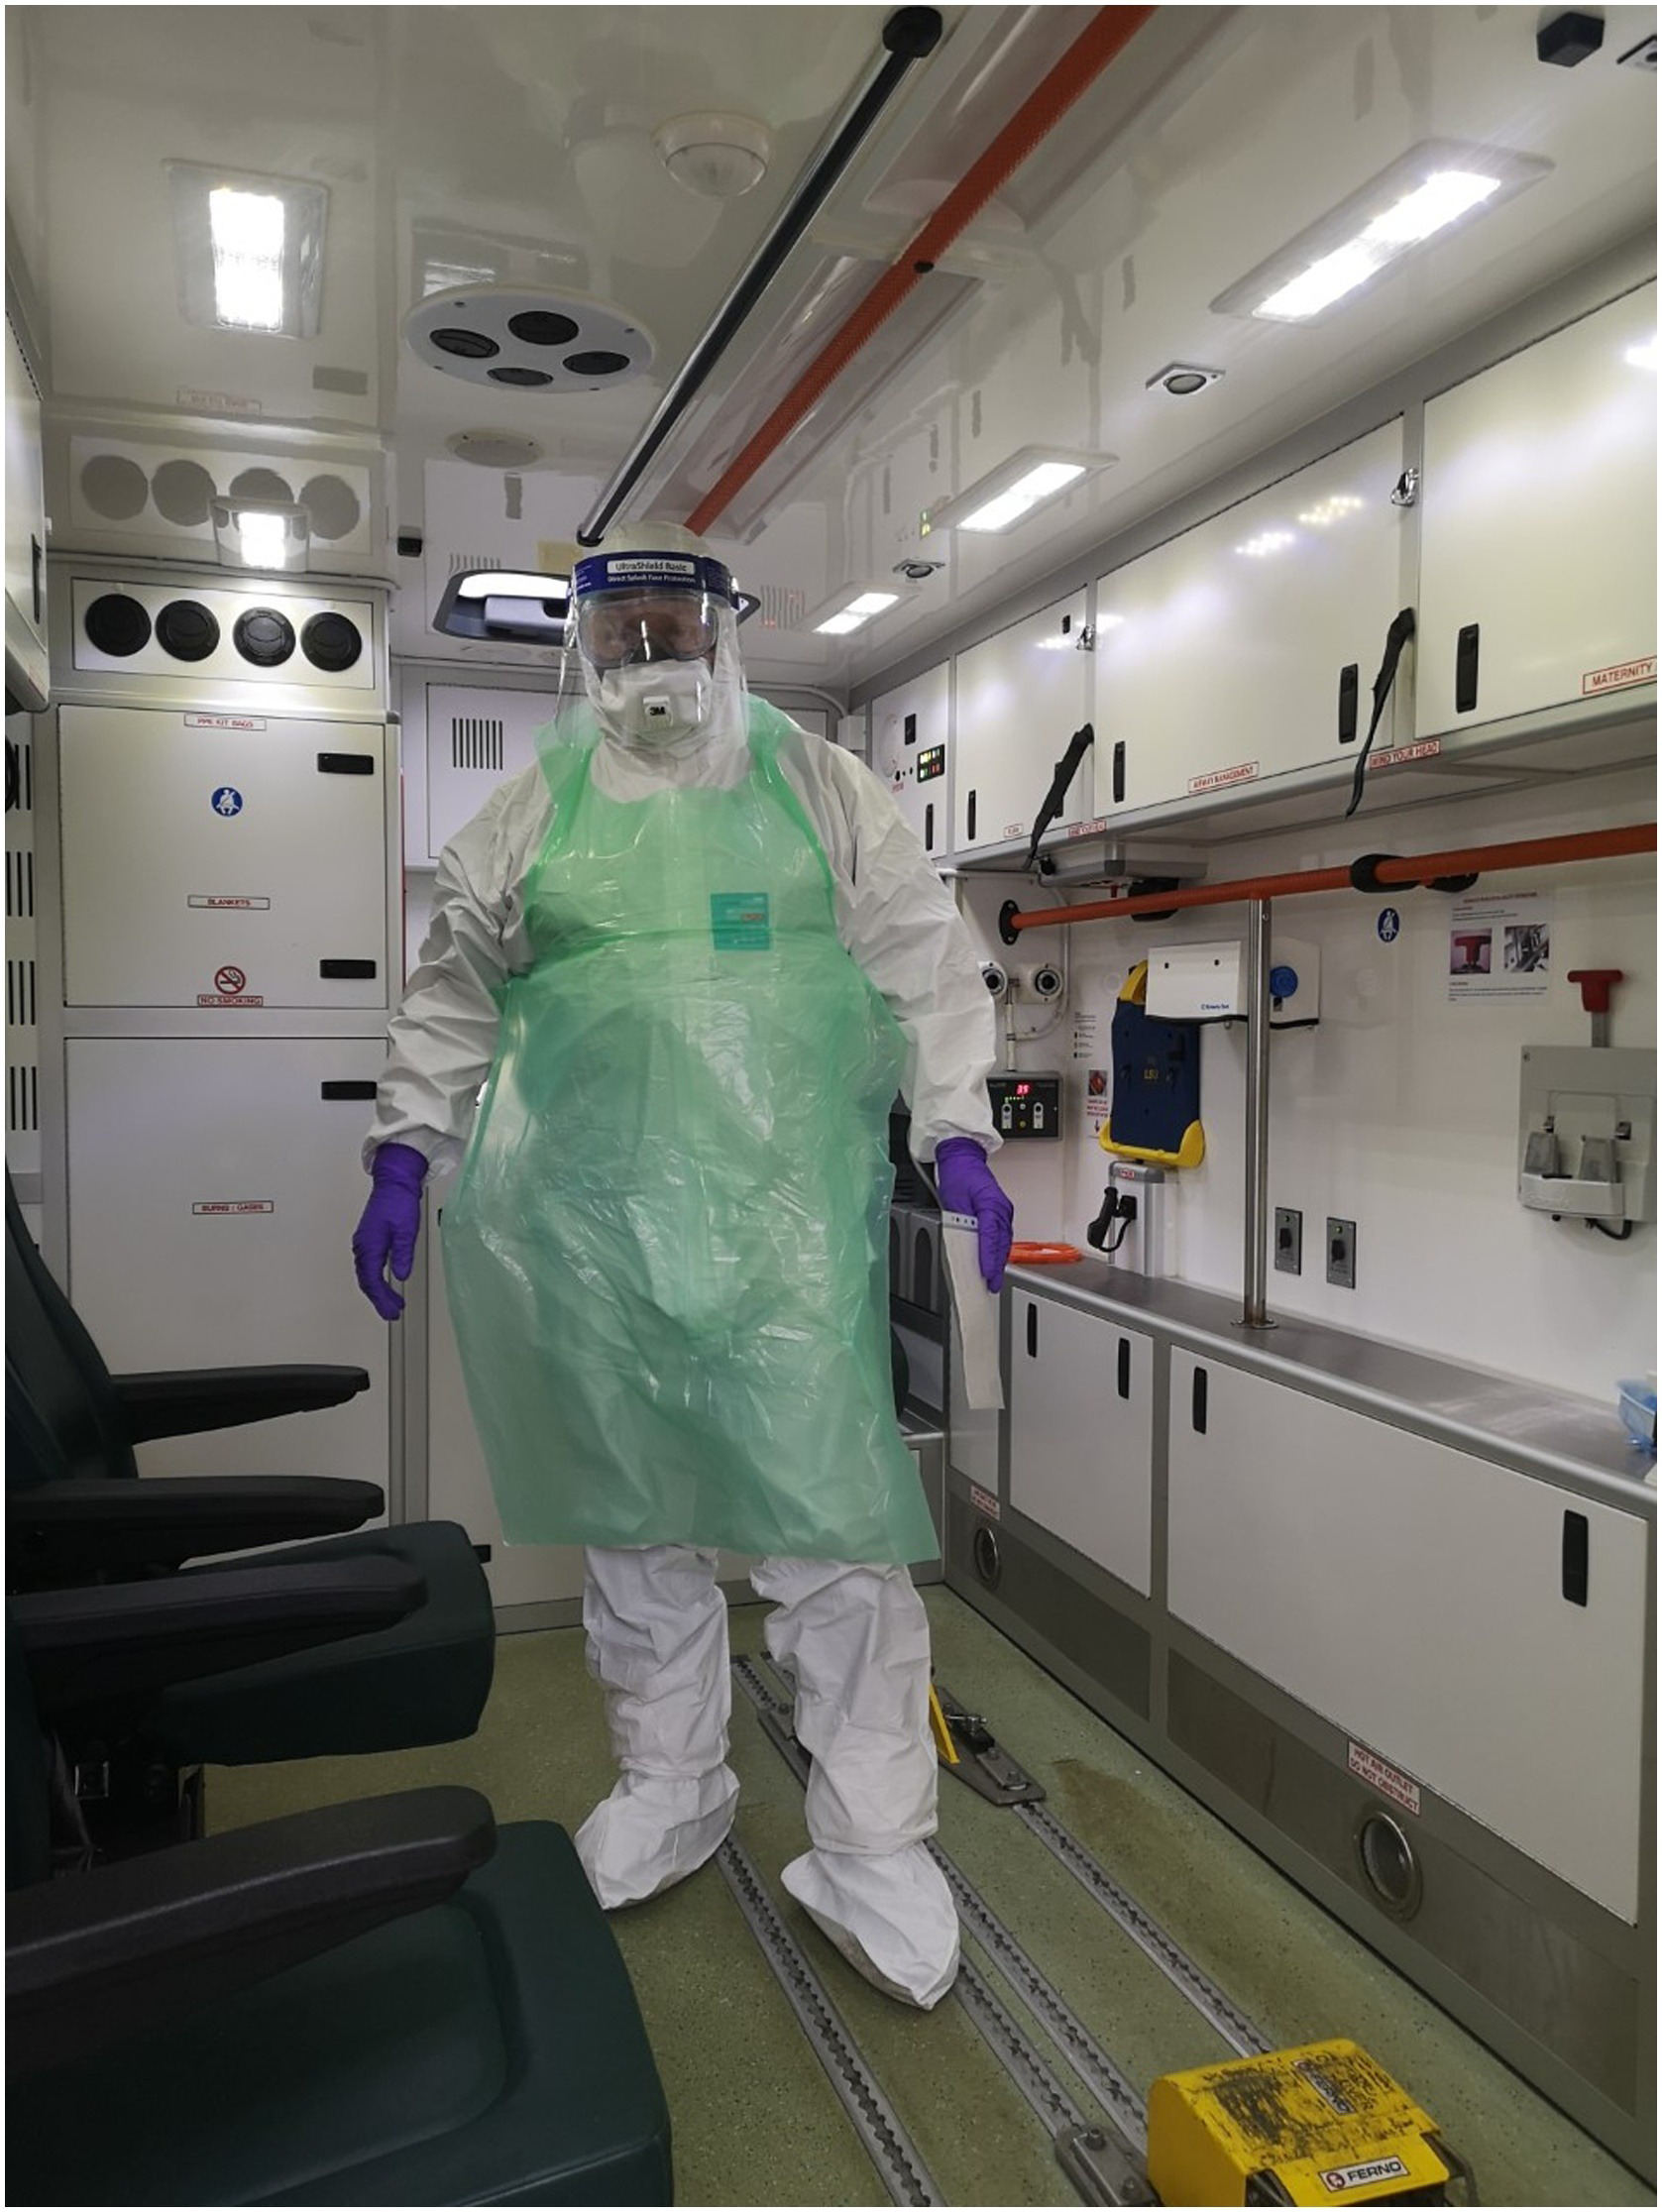Coverall: (435, 517, 956, 1826)
Gloves: (343, 1147, 435, 1327), (927, 1120, 1021, 1290)
with_mask: (595, 630, 717, 753)
